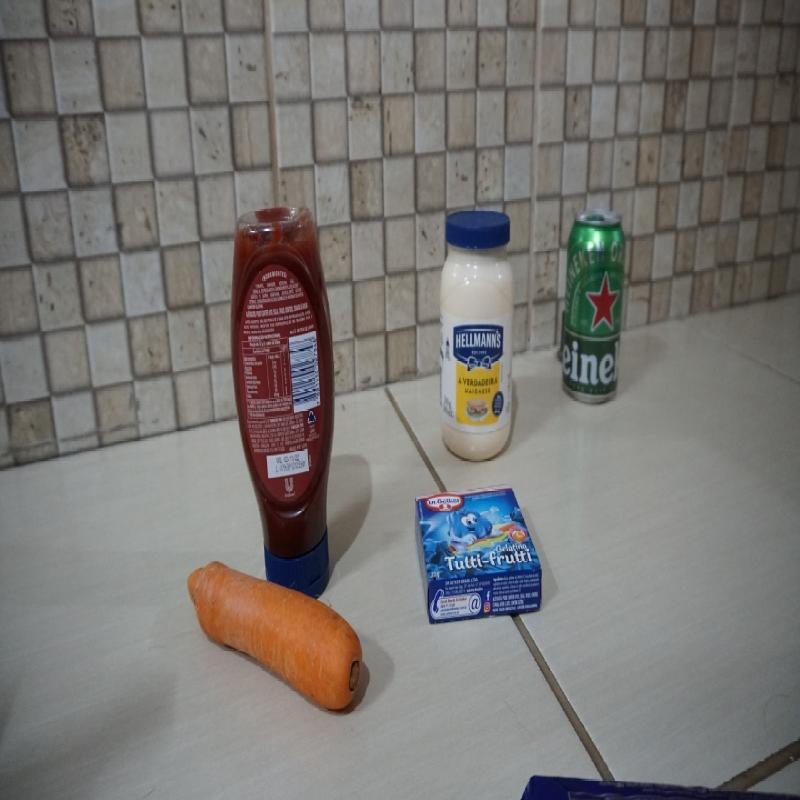Beer can: (558, 209, 627, 410)
Carrot: (187, 561, 363, 716)
Gelatine: (413, 485, 542, 630)
Ketchup: (229, 205, 338, 604)
Mayonnaise: (439, 207, 516, 462)
